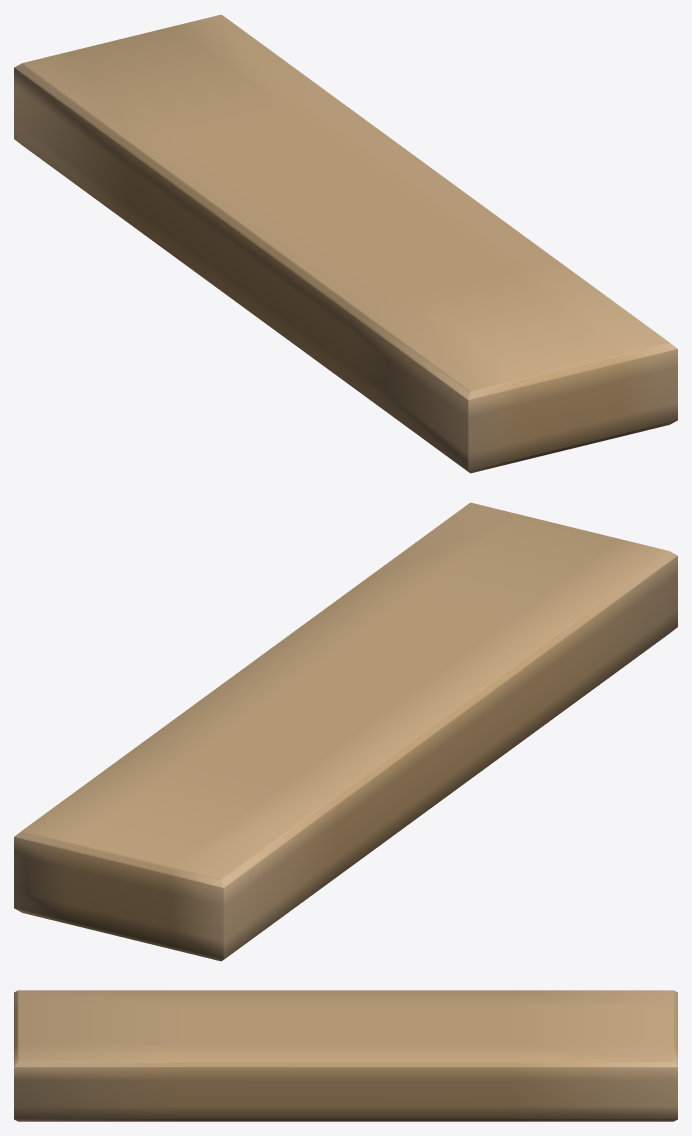
File: prop_plank_a.glb
3 views of the same model, one above another, from view 1: azimuth 30°, elevation 25°; view 2: azimuth 150°, elevation 25°; view 3: azimuth 270°, elevation 25° (orthographic). The views are drawn at different scales.
Parts seen in each view (by area): view 1: refined; view 2: refined; view 3: refined.
Boxes of the visible parts, bbox=[...] form: refined: bbox=[14, 14, 677, 473]; refined: bbox=[14, 502, 677, 961]; refined: bbox=[14, 990, 677, 1121].
Bounding box in the file's own units: 0.4 × 0.15 × 1.5.
